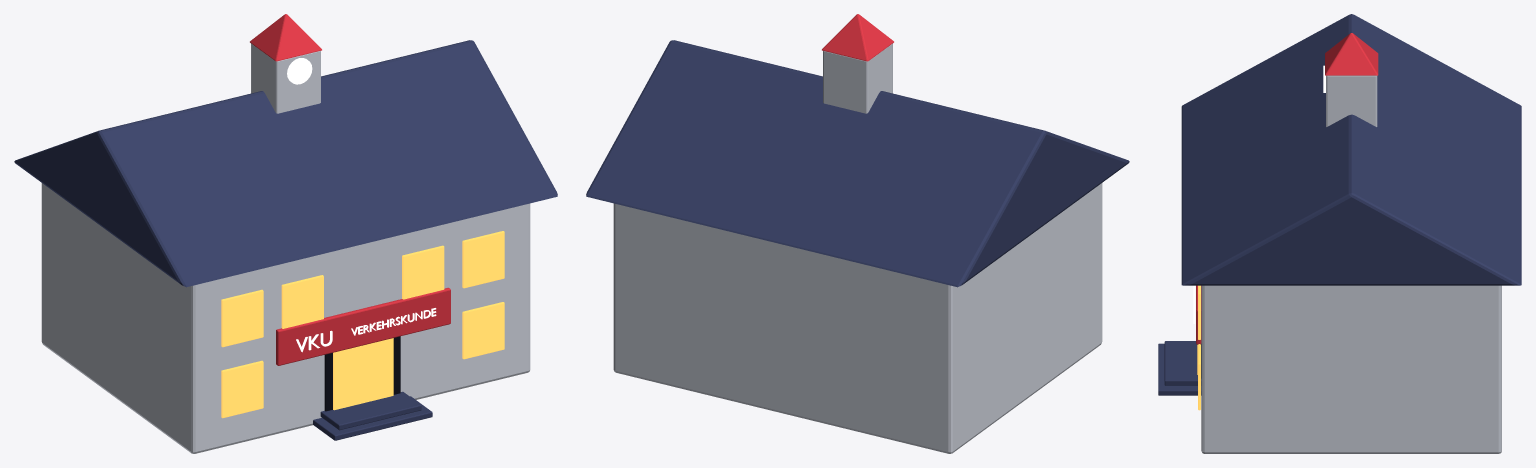
File: vku.glb
3 renders of one model, left to right at view 1: azimuth 30°, elevation 25°; view 2: azimuth 150°, elevation 25°; view 3: azimuth 270°, elevation 25°, orthographic.
Parts seen in each view (by area): view 1: vku-roof, vku-block, vku-sign, vku-door, vku-tower, vku-win-a0, vku-win-b0, vku-win-a3, vku-win-b1, vku-step-1, vku-win-a2, vku-win-a1 (+5 smaller); view 2: vku-block, vku-roof, vku-tower, vku-tower-roof; view 3: vku-roof, vku-block, vku-tower, vku-tower-roof, vku-step-1, vku-step-0.
Part boxes in pixels (box(x1,y1,x2,y2)): vku-roof: box(14, 40, 557, 287); vku-block: box(41, 183, 530, 453); vku-sign: box(276, 287, 450, 365); vku-door: box(333, 338, 393, 410); vku-tower: box(251, 43, 320, 113); vku-win-a0: box(221, 289, 263, 347); vku-win-b0: box(221, 360, 263, 418); vku-win-a3: box(462, 231, 504, 288); vku-win-b1: box(462, 302, 504, 359); vku-step-1: box(320, 391, 421, 430); vku-win-a2: box(402, 245, 444, 299); vku-win-a1: box(281, 275, 323, 328); vku-block: box(613, 183, 1102, 453); vku-roof: box(586, 40, 1129, 287); vku-tower: box(823, 43, 892, 113); vku-tower-roof: box(822, 14, 893, 61); vku-roof: box(1181, 14, 1521, 285); vku-block: box(1201, 285, 1501, 453); vku-tower: box(1326, 75, 1377, 126); vku-tower-roof: box(1325, 33, 1378, 75); vku-step-1: box(1164, 341, 1201, 385); vku-step-0: box(1158, 343, 1201, 395).
Bounding box in the file's own units: 10 × 8.75 × 8.46.
